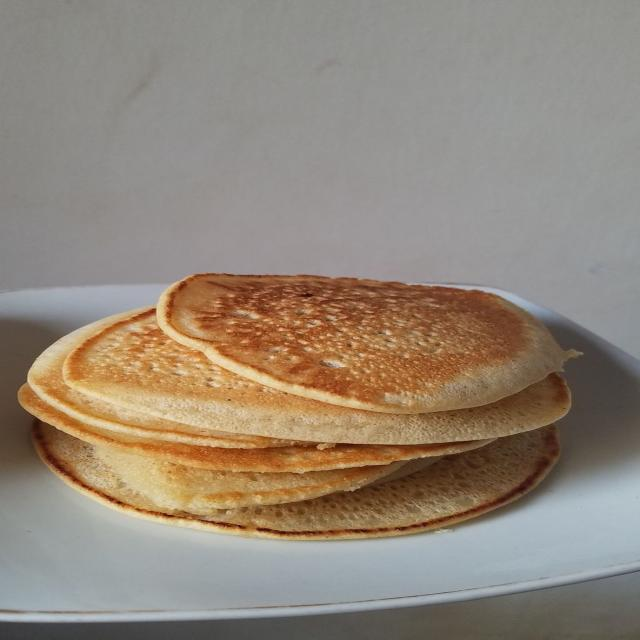pancake: (64, 310, 570, 444), (34, 426, 559, 539), (158, 274, 573, 413), (19, 385, 491, 473), (28, 313, 315, 448), (38, 423, 404, 515)
